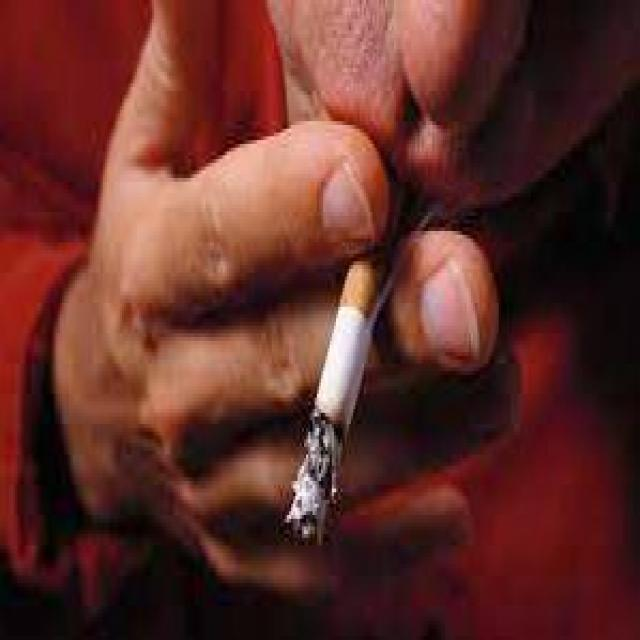cigarette: (285, 167, 430, 553)
